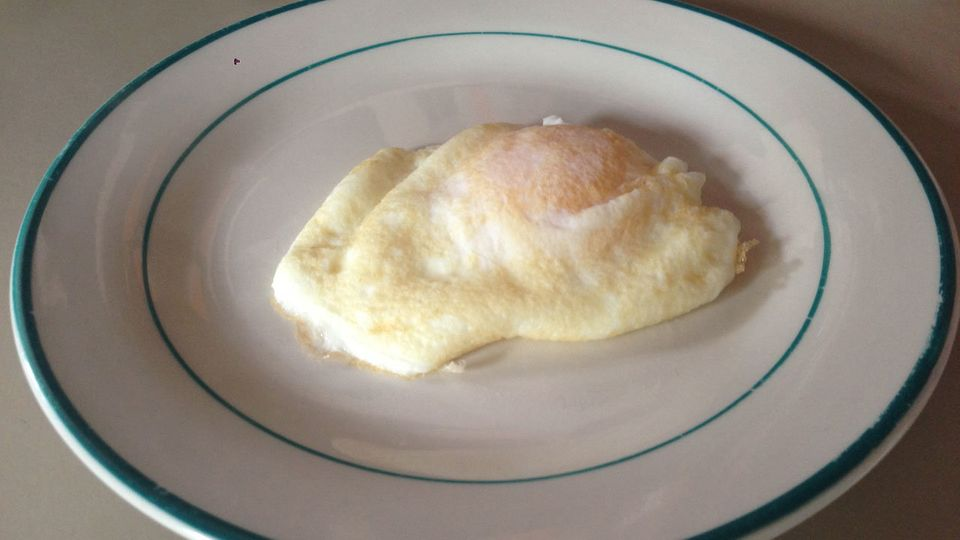fried_eggs: (337, 132, 720, 354)
